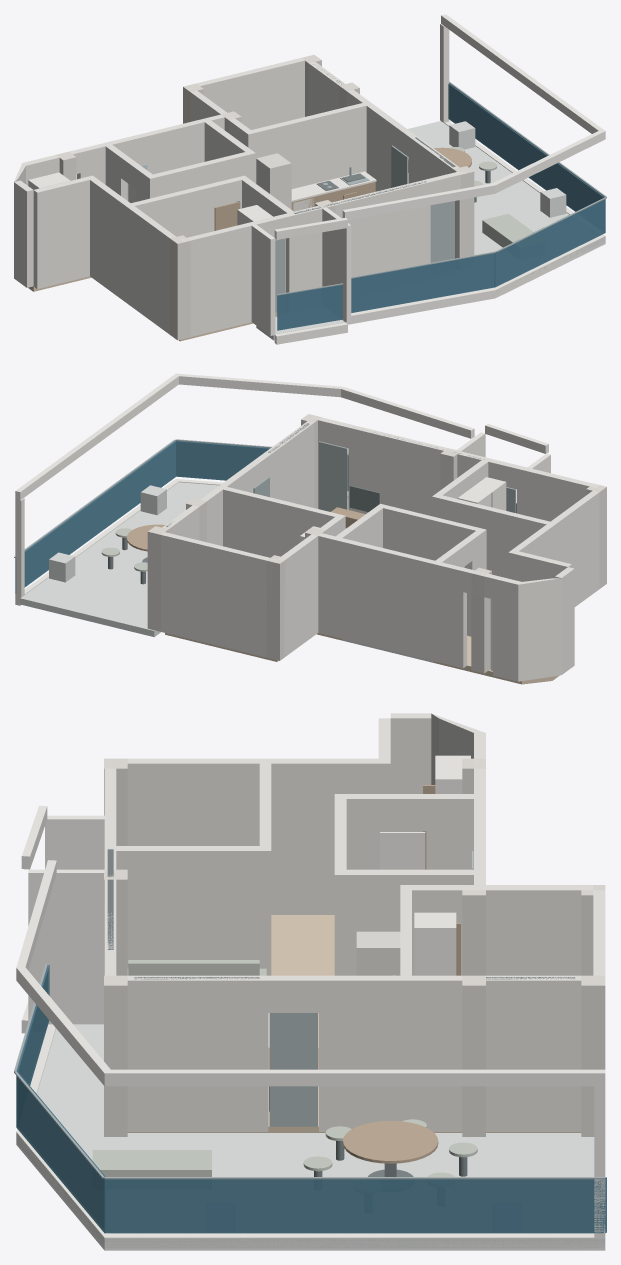
The model's file is apartment.glb.
The picture shows the model from 3 angles, top to bottom: view 1: azimuth 30°, elevation 25°; view 2: azimuth 150°, elevation 25°; view 3: azimuth 270°, elevation 25°; orthographic projection. The views are drawn at different scales.
Visible parts, largest first — view 1: Terrace glass (×3), South exterior mid, West party wall, Kitchen back wall, South exterior west, Alcove south wall, Terrace soffit (×3), North exterior bedroom, Terrace slab east, North wall mid, Terrace fascia (×2), Bedroom 2 north wall west (+33 smaller); view 2: North wall mid, North exterior bedroom, Terrace slab east, Terrace glass (×2), South exterior mid, Terrace soffit (×3), Kitchen back wall, West party wall, Chamfer wall, Bedroom 1 west wall north, Bathroom south wall, East exterior south (+33 smaller); view 3: Terrace glass (×3), West party wall, Terrace slab east, East exterior south, East exterior mid, Bedroom 2 east wall, East exterior north, Terrace soffit (×3), Balcony divider east, Bedroom 1 west wall north, Terrace fascia (×2), Bathroom east wall (+38 smaller).
Part boxes in pixels (bbox=[...]): Terrace glass (×3): bbox=[351, 83, 605, 312]; South exterior mid: bbox=[285, 179, 430, 292]; West party wall: bbox=[90, 178, 176, 334]; Kitchen back wall: bbox=[251, 103, 366, 188]; South exterior west: bbox=[180, 220, 262, 336]; Alcove south wall: bbox=[33, 175, 95, 288]; Terrace soffit (×3): bbox=[342, 14, 605, 219]; North exterior bedroom: bbox=[196, 58, 304, 129]; Terrace slab east: bbox=[407, 121, 605, 294]; North wall mid: bbox=[77, 114, 224, 200]; Terrace fascia (×2): bbox=[345, 236, 605, 324]; Bedroom 2 north wall west: bbox=[131, 184, 213, 237]; North wall mid: bbox=[318, 533, 466, 668]; North exterior bedroom: bbox=[161, 532, 276, 657]; Terrace slab east: bbox=[15, 482, 219, 637]; Terrace glass (×2): bbox=[15, 440, 270, 593]; South exterior mid: bbox=[348, 425, 493, 516]; Terrace soffit (×3): bbox=[15, 373, 474, 500]; Kitchen back wall: bbox=[223, 487, 338, 557]; West party wall: bbox=[512, 491, 599, 606]; Chamfer wall: bbox=[518, 578, 561, 681]; Bedroom 1 west wall north: bbox=[278, 530, 325, 657]; Bathroom south wall: bbox=[379, 504, 479, 567]; East exterior south: bbox=[263, 421, 314, 507]; Terrace glass (×3): bbox=[16, 965, 606, 1233]; West party wall: bbox=[127, 758, 378, 914]; Terrace slab east: bbox=[16, 1133, 605, 1248]; East exterior south: bbox=[127, 975, 268, 1131]; East exterior mid: bbox=[319, 975, 462, 1131]; Bedroom 2 east wall: bbox=[116, 846, 259, 968]; East exterior north: bbox=[486, 975, 581, 1131]; Terrace soffit (×3): bbox=[16, 860, 605, 1086]; Balcony divider east: bbox=[28, 869, 104, 1024]; Bedroom 1 west wall north: bbox=[462, 885, 593, 975]; Terrace fascia (×2): bbox=[16, 1131, 605, 1250]; Bathroom east wall: bbox=[334, 869, 473, 975].
Bounding box in the file's own units: 14.85 × 3.28 × 9.95.
